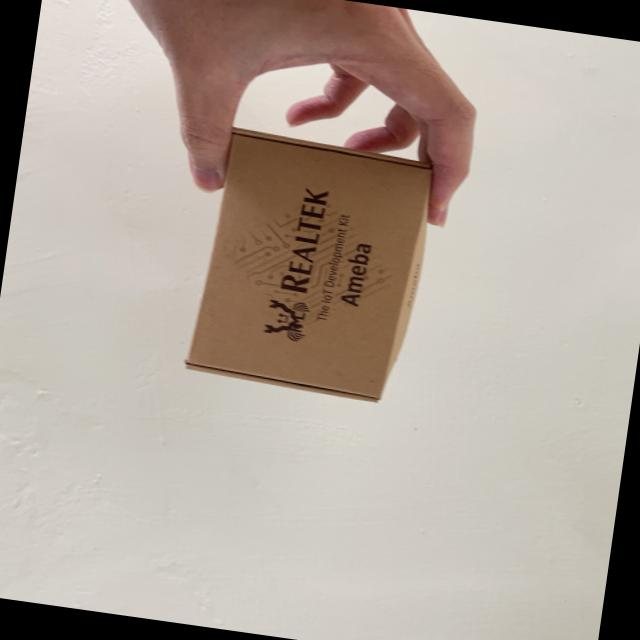box: (176, 104, 472, 422)
